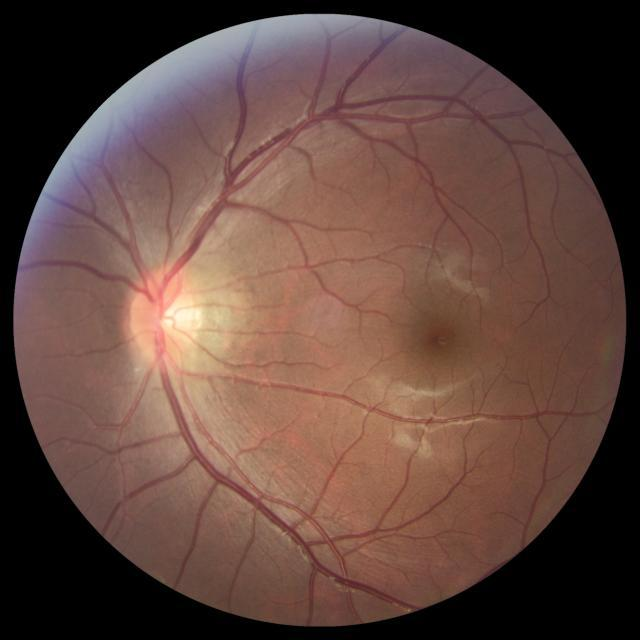OC: (156, 297, 192, 336)
OD: (130, 268, 200, 363)
